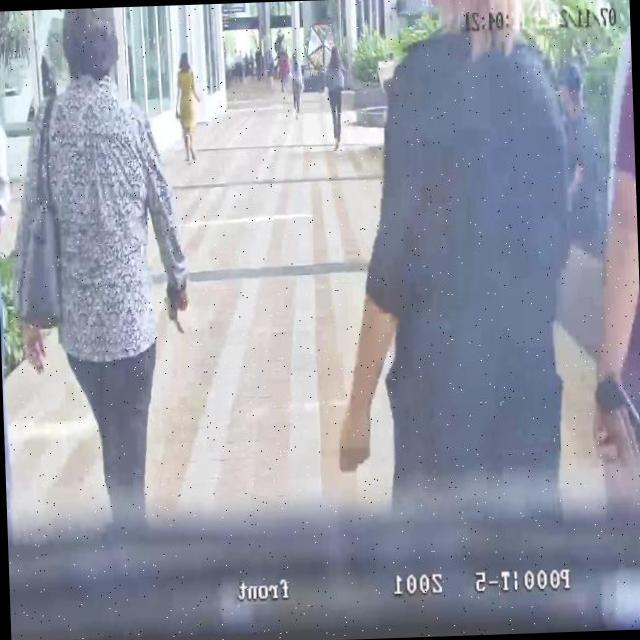person: (322, 1, 581, 486), (8, 5, 198, 532), (581, 25, 640, 457), (558, 61, 600, 246), (173, 51, 202, 162), (323, 42, 347, 152), (288, 52, 304, 119), (275, 46, 290, 92), (254, 50, 263, 80)
